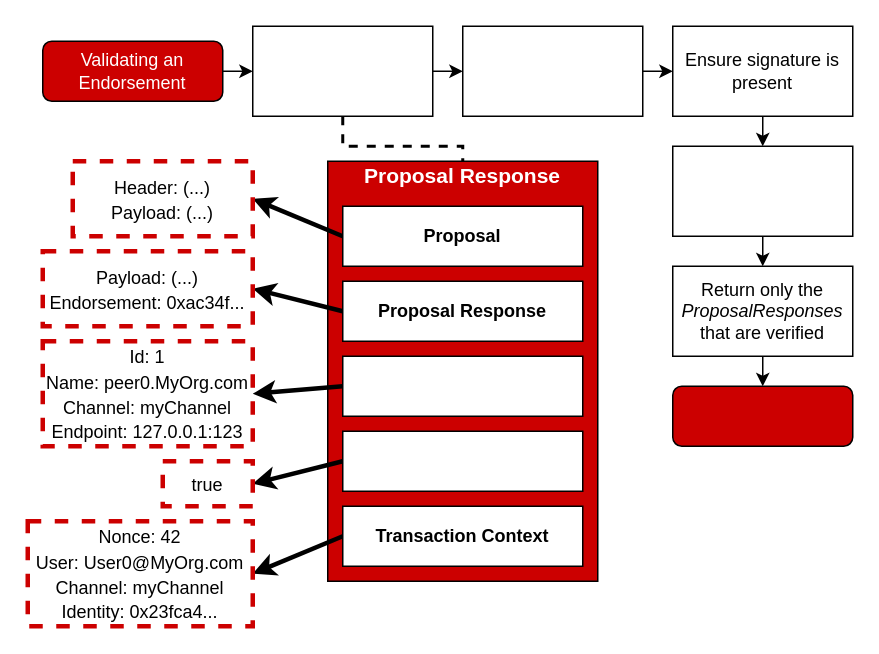
The diagram is 879 pixels wide and 654 high, and some of its shapes have lost their labels. Here are the shapes that lost their labels. From the top down, the centre of each, then its label:
At (x=342, y=70): "Construct ProposalResponse object".
At (x=552, y=70): "Ensure the chaincode execution succeeded".
At (x=762, y=190): "Ensure signature matches endorser's certificate".
At (x=462, y=385): "Peer".
At (x=762, y=415): "End".
At (x=462, y=460): "Is Verified".
